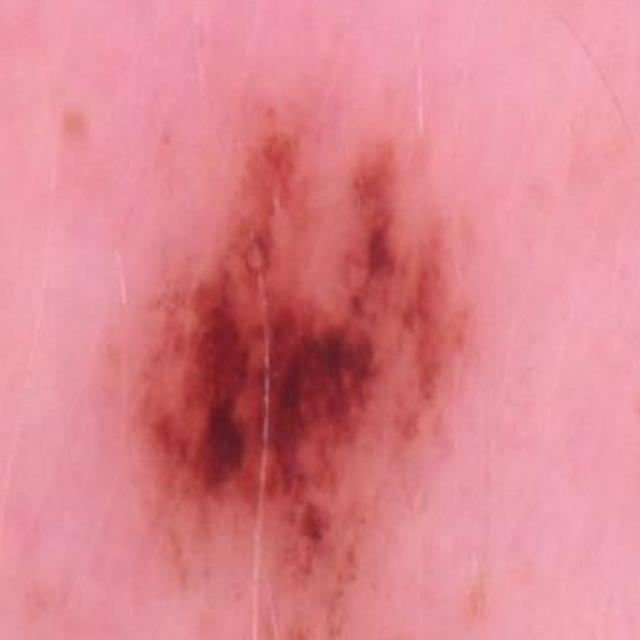NV: (124, 122, 512, 640)
